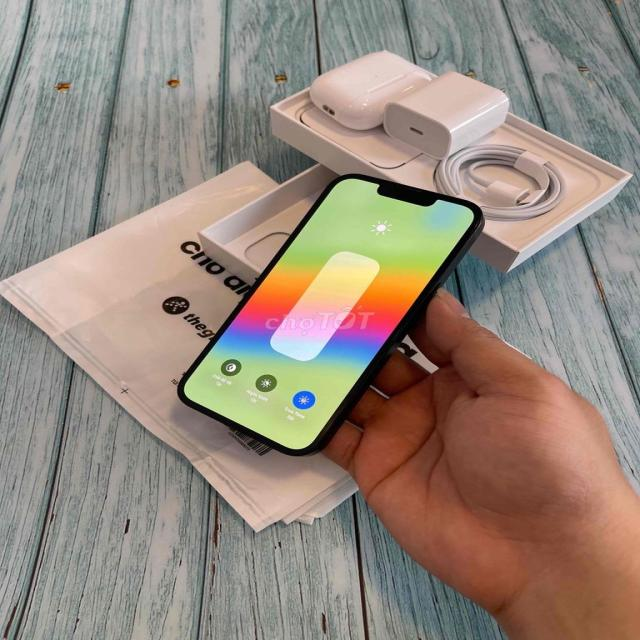gen_12_13: (177, 169, 488, 464)
